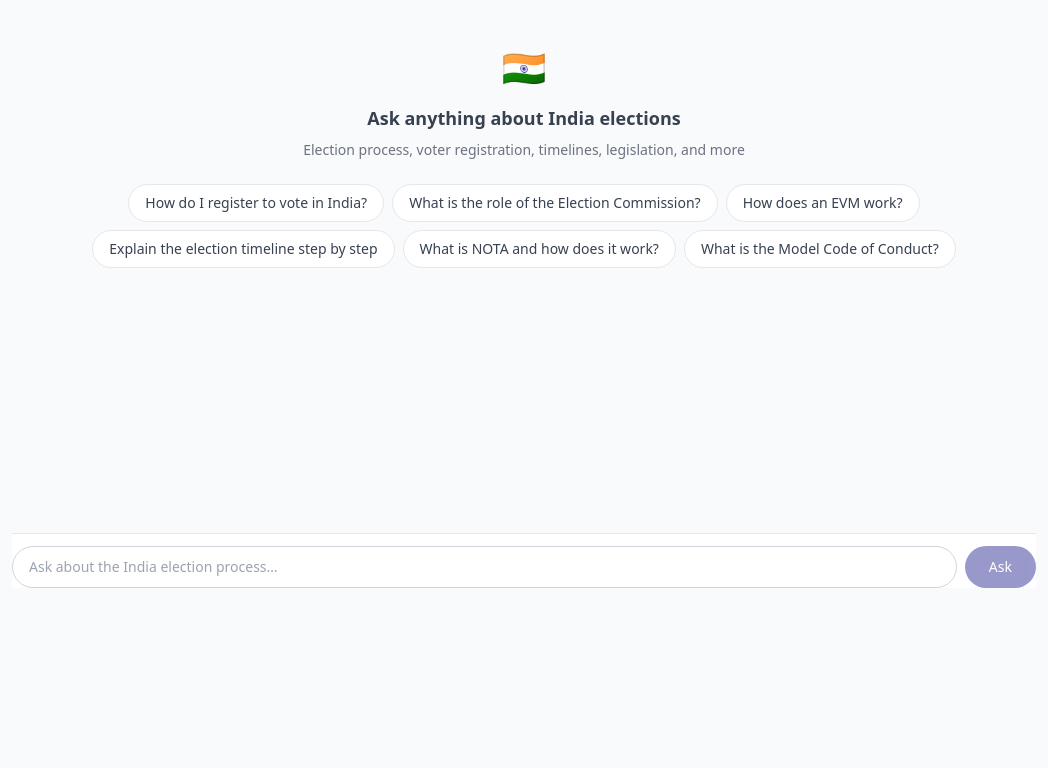
Test: Chat › displays error message on network failure
Type "Test question" into the field with placeholder "Ask about the India election process…" at (484, 567), box [12, 546, 957, 588]
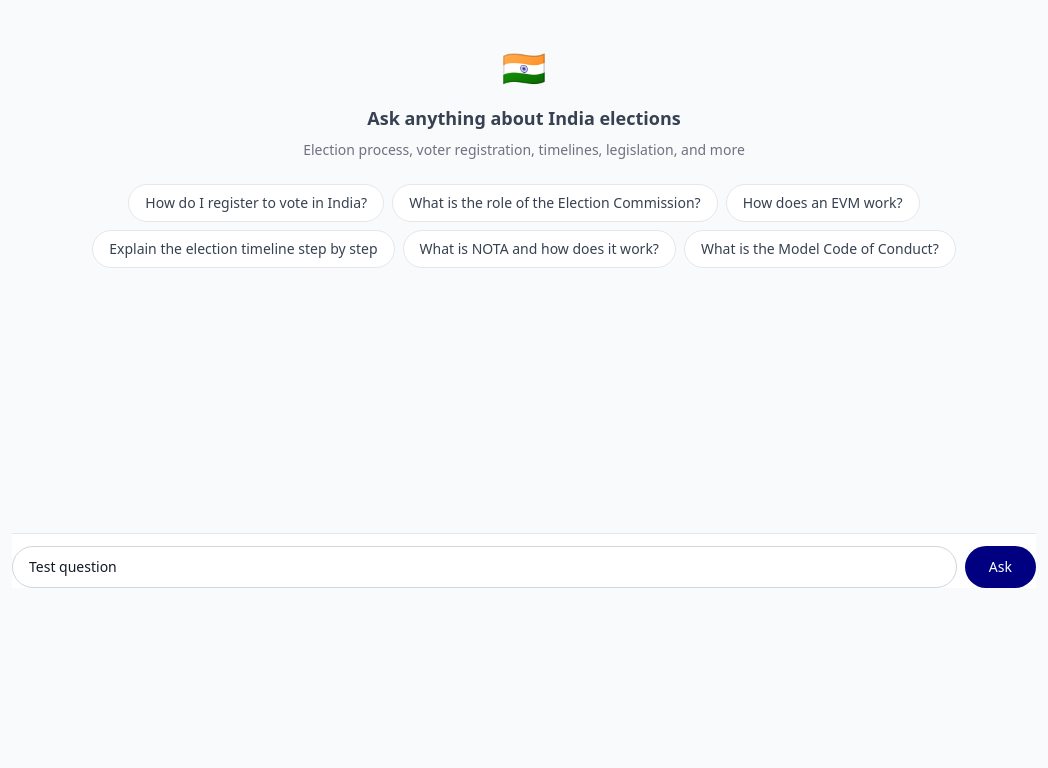
Click the button with aria-label "Submit question" at (1000, 567), box [965, 546, 1036, 588]
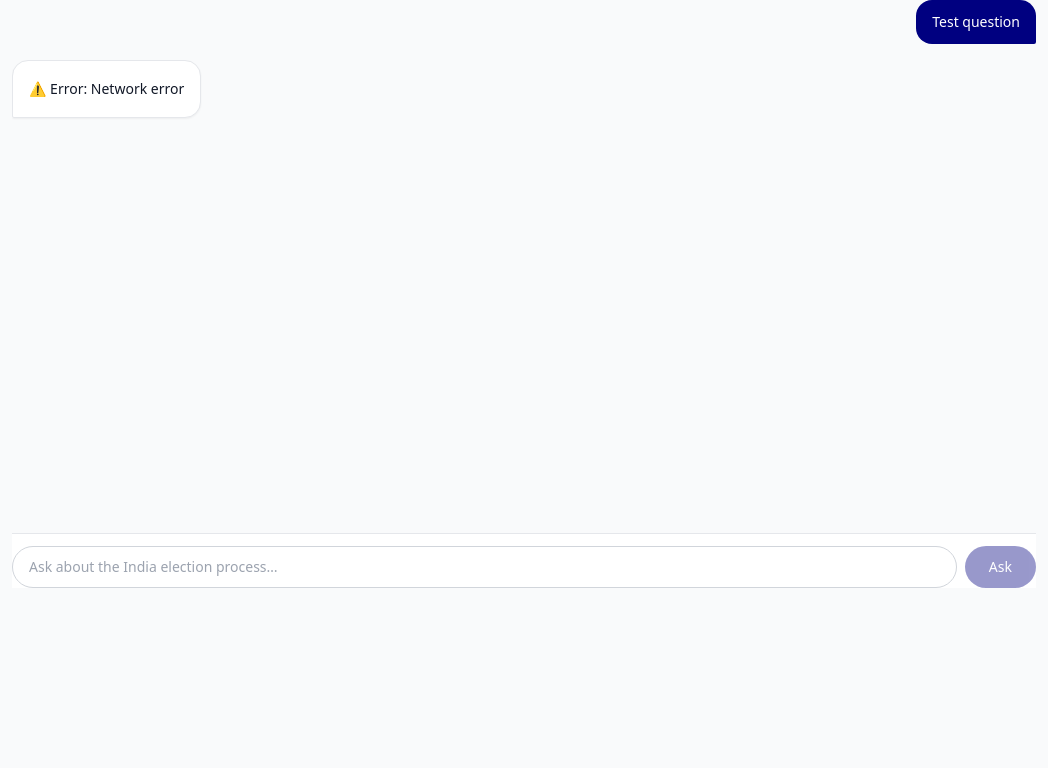
Result: the text "⚠️ Error: Network error" is shown at [29, 79, 184, 99]
